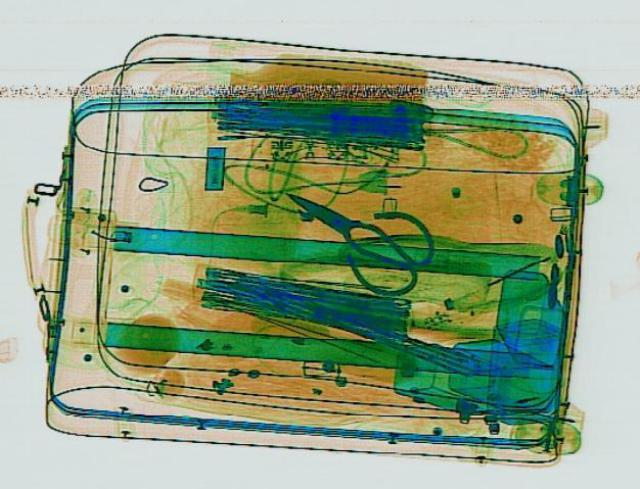Scissors: (250, 162, 462, 303)
